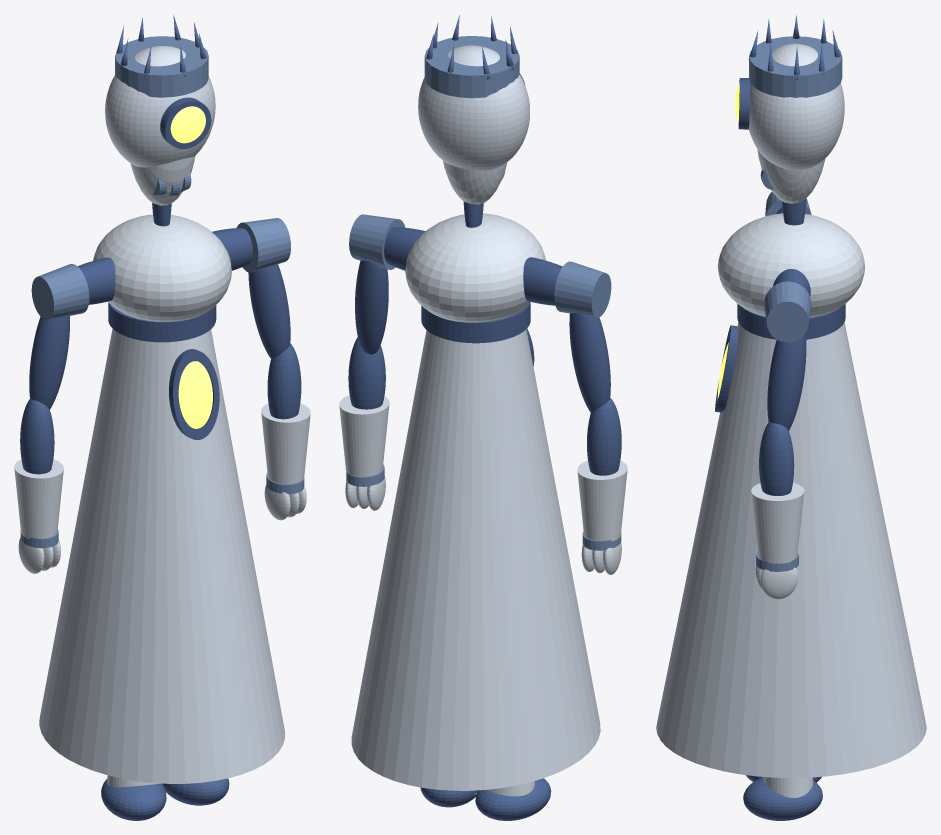
The model's file is queen.glb.
3 views of the same model, side by side, from view 1: azimuth 30°, elevation 25°; view 2: azimuth 150°, elevation 25°; view 3: azimuth 270°, elevation 25° (orthographic).
Visible parts, largest first — view 1: dame_robe, koenig_hip, dame_torso, koenig_absatz_left.002, koenig_arm_upper_right.001, koenig_arm_upper_right.003, dame_shoulder_l.001, dame_shoulder_l, koenig_neck.001, dame_waist_ring, koenig_arm_lower_left.003, koenig_arm_lower_left.005 (+12 smaller); view 2: dame_robe, koenig_hip, dame_torso, koenig_absatz_left.002, dame_shoulder_l, koenig_arm_upper_right.001, koenig_arm_upper_right.003, dame_shoulder_l.001, koenig_neck.001, dame_waist_ring, koenig_arm_lower_left.003, koenig_arm_lower_left.005 (+6 smaller); view 3: dame_robe, koenig_hip, dame_torso, koenig_absatz_left.002, koenig_arm_upper_right.001, dame_shoulder_l.001, koenig_neck, koenig_arm_lower_left.005, koenig_fist_right.002, koenig_fist_right, dame_waist_ring, dame_chest_ring.001 (+4 smaller).
Boxes of the visible parts, bbox=[...] form: dame_robe: bbox=[39, 328, 284, 783]; koenig_hip: bbox=[93, 214, 231, 321]; dame_torso: bbox=[105, 46, 215, 167]; koenig_absatz_left.002: bbox=[115, 36, 208, 97]; koenig_arm_upper_right.001: bbox=[261, 403, 310, 484]; koenig_arm_upper_right.003: bbox=[14, 459, 63, 538]; dame_shoulder_l.001: bbox=[248, 264, 290, 359]; dame_shoulder_l: bbox=[29, 316, 69, 409]; koenig_neck.001: bbox=[31, 264, 89, 320]; dame_waist_ring: bbox=[108, 302, 216, 342]; koenig_arm_lower_left.003: bbox=[20, 399, 54, 474]; koenig_arm_lower_left.005: bbox=[267, 343, 301, 419]; dame_robe: bbox=[351, 329, 600, 790]; koenig_hip: bbox=[405, 213, 545, 322]; dame_torso: bbox=[418, 45, 529, 170]; koenig_absatz_left.002: bbox=[424, 36, 519, 98]; dame_shoulder_l: bbox=[569, 313, 610, 412]; koenig_arm_upper_right.001: bbox=[339, 395, 389, 476]; koenig_arm_upper_right.003: bbox=[577, 460, 627, 541]; dame_shoulder_l.001: bbox=[355, 260, 388, 354]; koenig_neck.001: bbox=[554, 261, 611, 317]; dame_waist_ring: bbox=[421, 302, 530, 343]; koenig_arm_lower_left.003: bbox=[587, 398, 621, 475]; koenig_arm_lower_left.005: bbox=[348, 337, 385, 409]; dame_robe: bbox=[656, 322, 926, 777]; koenig_hip: bbox=[718, 213, 864, 317]; dame_torso: bbox=[749, 43, 844, 170]; koenig_absatz_left.002: bbox=[749, 36, 842, 97]; koenig_arm_upper_right.001: bbox=[751, 482, 804, 563]; dame_shoulder_l.001: bbox=[767, 333, 806, 430]; koenig_neck: bbox=[764, 281, 811, 342]; koenig_arm_lower_left.005: bbox=[759, 422, 794, 495]; koenig_fist_right.002: bbox=[743, 777, 822, 820]; koenig_fist_right: bbox=[757, 149, 825, 203]; dame_waist_ring: bbox=[737, 304, 845, 339]; dame_chest_ring.001: bbox=[715, 325, 738, 412].
Size of the model in its own units: 0.7141 by 1.86 by 0.59.
